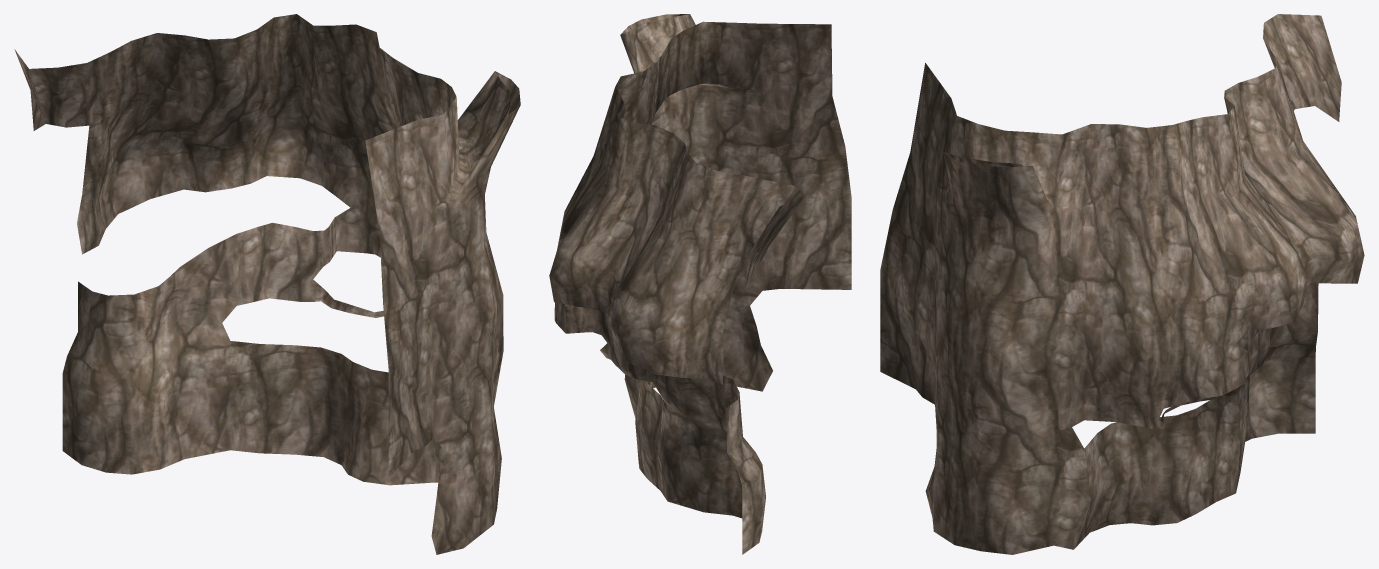
The model's file is EKH_GROTTO_PS_GR_OBJECT25.fbx.
3 views of the same model, side by side, from view 1: azimuth 30°, elevation 25°; view 2: azimuth 150°, elevation 25°; view 3: azimuth 270°, elevation 25° (orthographic). The views are drawn at different scales.
Visible parts, largest first — view 1: EKH_GROTTO_PS_GR_OBJECT25; view 2: EKH_GROTTO_PS_GR_OBJECT25; view 3: EKH_GROTTO_PS_GR_OBJECT25.
Part boxes in pixels (left/top/right/bottom): EKH_GROTTO_PS_GR_OBJECT25: left=14, top=14, right=520, bottom=554; EKH_GROTTO_PS_GR_OBJECT25: left=549, top=14, right=851, bottom=554; EKH_GROTTO_PS_GR_OBJECT25: left=880, top=14, right=1364, bottom=554.
Bounding box in the file's own units: 117495 × 143046 × 149127.
Materials: 1 (1 with a texture image).
